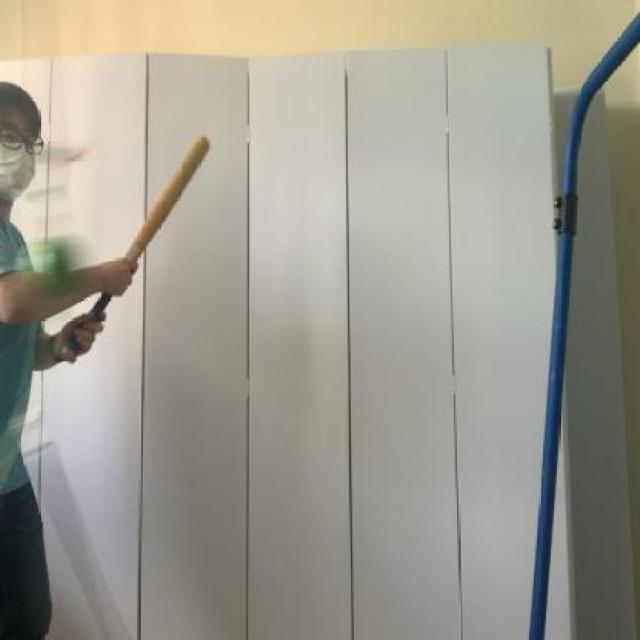baseball: (7, 221, 107, 308)
